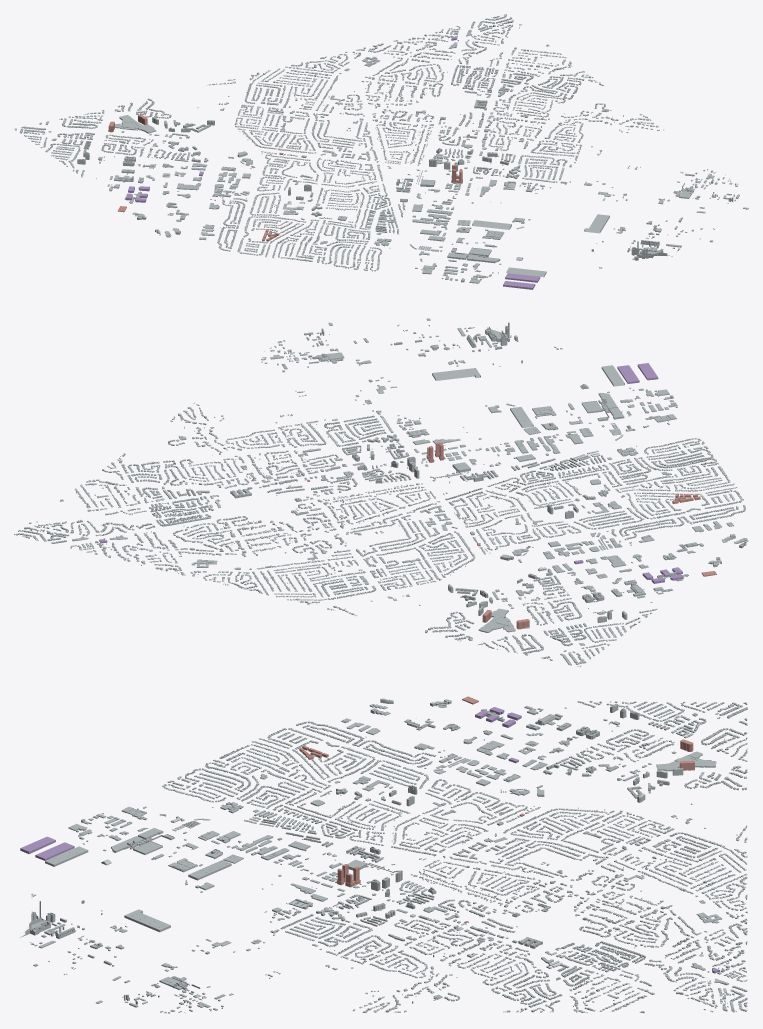
Rendered from clarkson.glb.
3 views of the same model, one above another, from view 1: azimuth 30°, elevation 25°; view 2: azimuth 150°, elevation 25°; view 3: azimuth 270°, elevation 25° (orthographic). The views are drawn at different scales.
Visible parts, largest first — view 1: existing-82, existing-83, existing-81, existing-92, existing-93; view 2: existing-82, existing-83, existing-81, existing-92, existing-93; view 3: existing-82, existing-83, existing-81, existing-92, existing-93.
Boxes of the visible parts, x1,y1,x2,y2 form: existing-82: [199, 51, 498, 274]; existing-83: [441, 69, 748, 283]; existing-81: [14, 81, 235, 237]; existing-92: [356, 14, 513, 66]; existing-93: [506, 24, 593, 78]; existing-82: [149, 414, 745, 604]; existing-83: [117, 318, 677, 503]; existing-81: [333, 534, 748, 666]; existing-92: [14, 508, 185, 575]; existing-93: [29, 462, 140, 523]; existing-82: [121, 718, 747, 972]; existing-83: [20, 813, 604, 1013]; existing-81: [369, 698, 747, 840]; existing-92: [619, 918, 747, 1012]; existing-93: [531, 977, 713, 1013].
Size of the model in its own units: 4698 by 150 by 4725.
